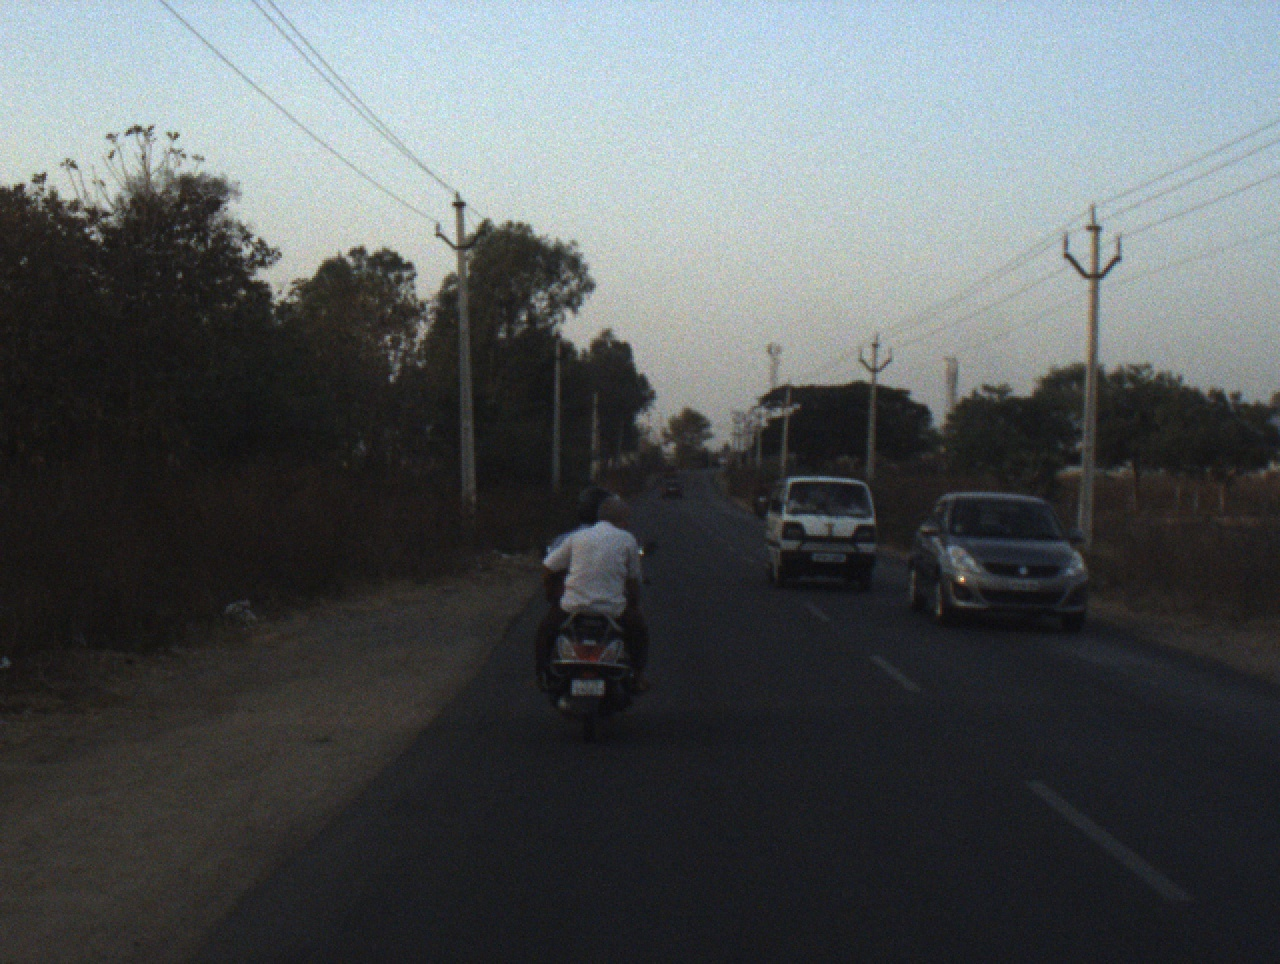autorickshaw: (662, 460, 678, 480)
car: (895, 492, 1092, 639), (764, 468, 878, 592), (655, 477, 683, 503)
motorcycle: (535, 537, 661, 751), (752, 494, 770, 523)
rider: (536, 496, 653, 694), (545, 485, 613, 556), (752, 482, 770, 513)
